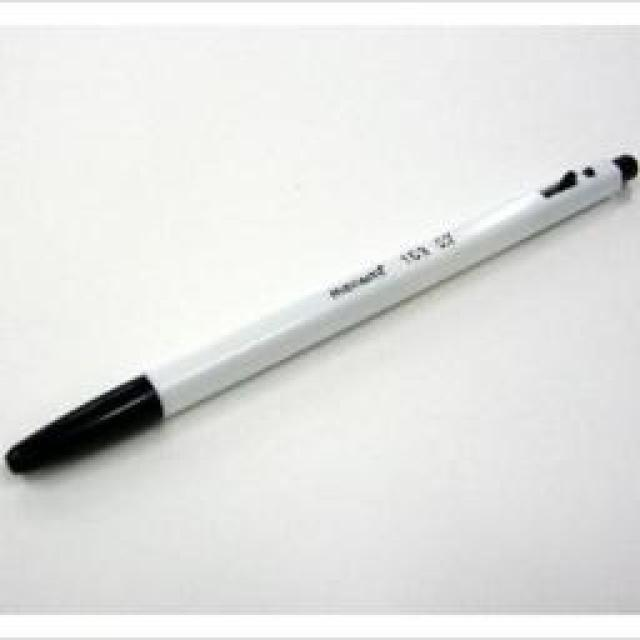pen: (0, 153, 640, 481)
